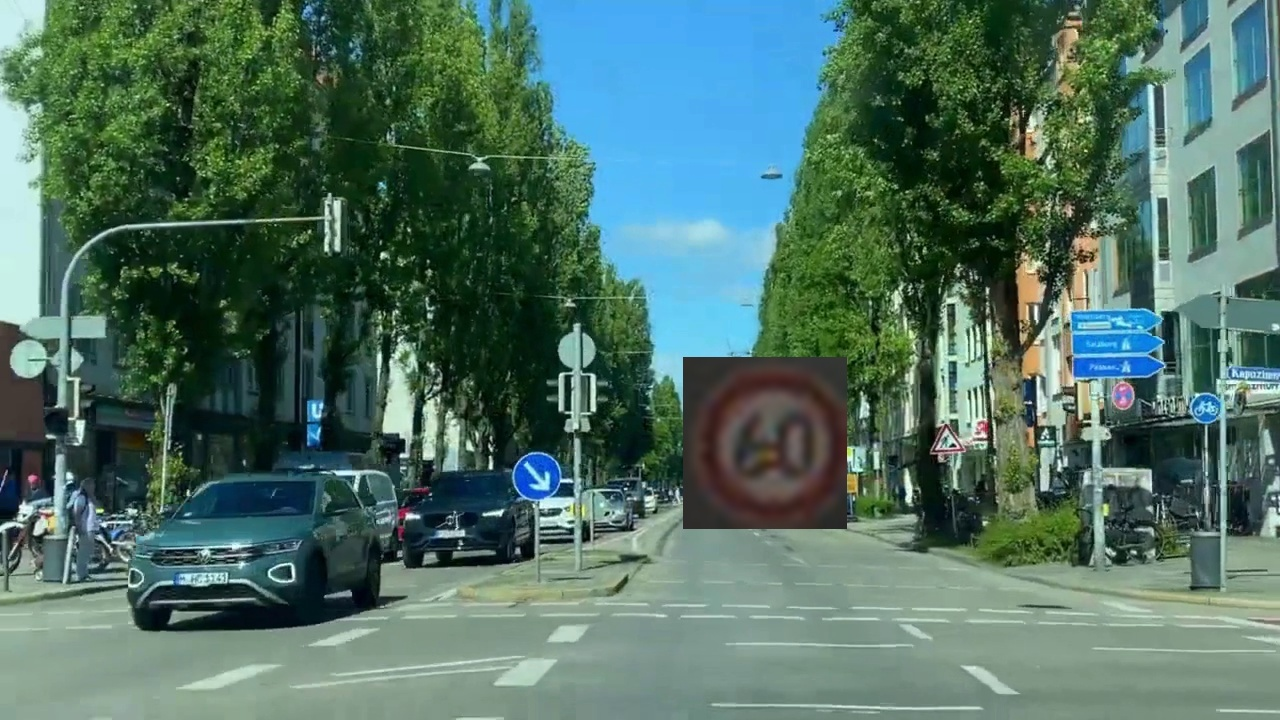Speed 60: (683, 357, 847, 529)
